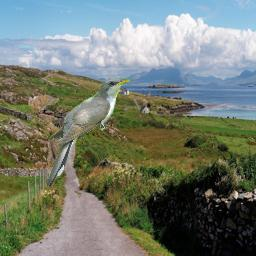Cuckoo: (46, 78, 130, 187)
